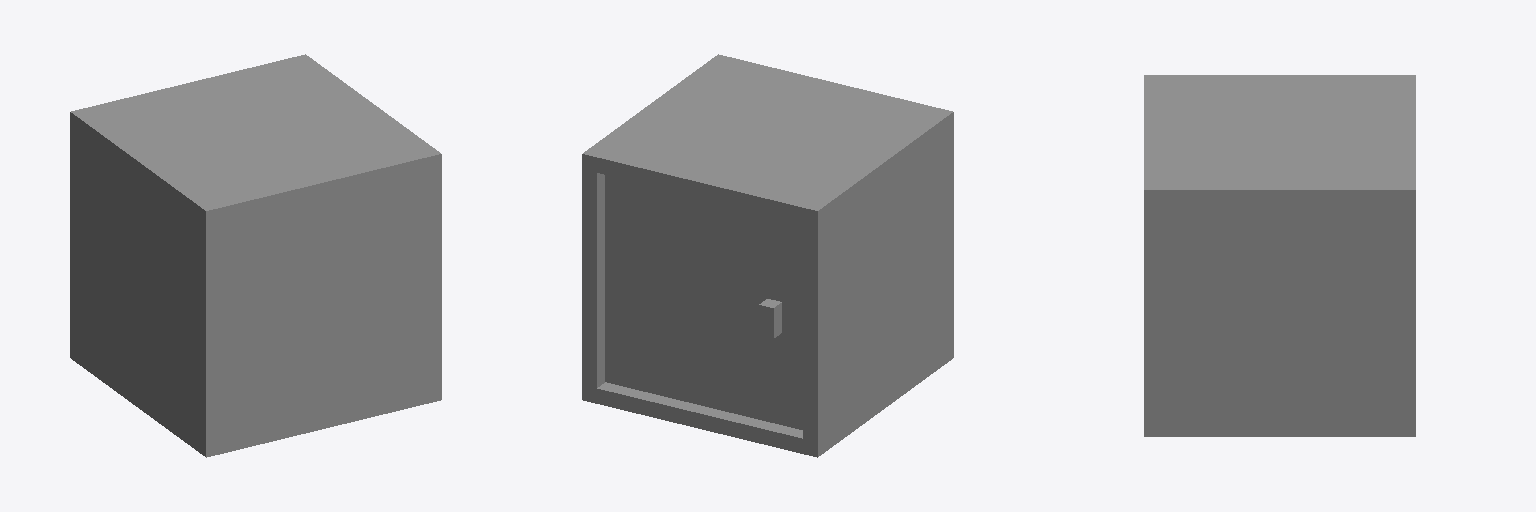
File: locker_closed.obj
The picture shows the model from 3 angles: view 1: azimuth 30°, elevation 25°; view 2: azimuth 150°, elevation 25°; view 3: azimuth 270°, elevation 25°; orthographic projection.
Visible parts, largest first — view 1: locker_closed; view 2: locker_closed; view 3: locker_closed.
Part boxes in pixels (left/top/right/bottom): locker_closed: left=70, top=54, right=441, bottom=457; locker_closed: left=582, top=54, right=953, bottom=457; locker_closed: left=1144, top=75, right=1415, bottom=436.
Size of the model in its own units: 1 by 1 by 1.